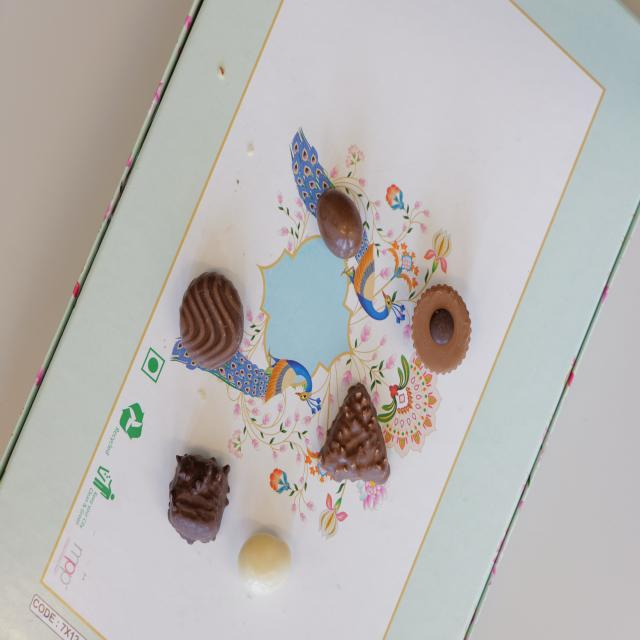Jelly_Milk: (317, 188, 363, 260)
Jelly_White: (238, 532, 293, 596)
Noblesse: (412, 285, 472, 372)
Noir_authentique: (180, 272, 244, 366)
Tentation_noir: (170, 453, 228, 542)
Triangolo: (321, 384, 390, 484)
